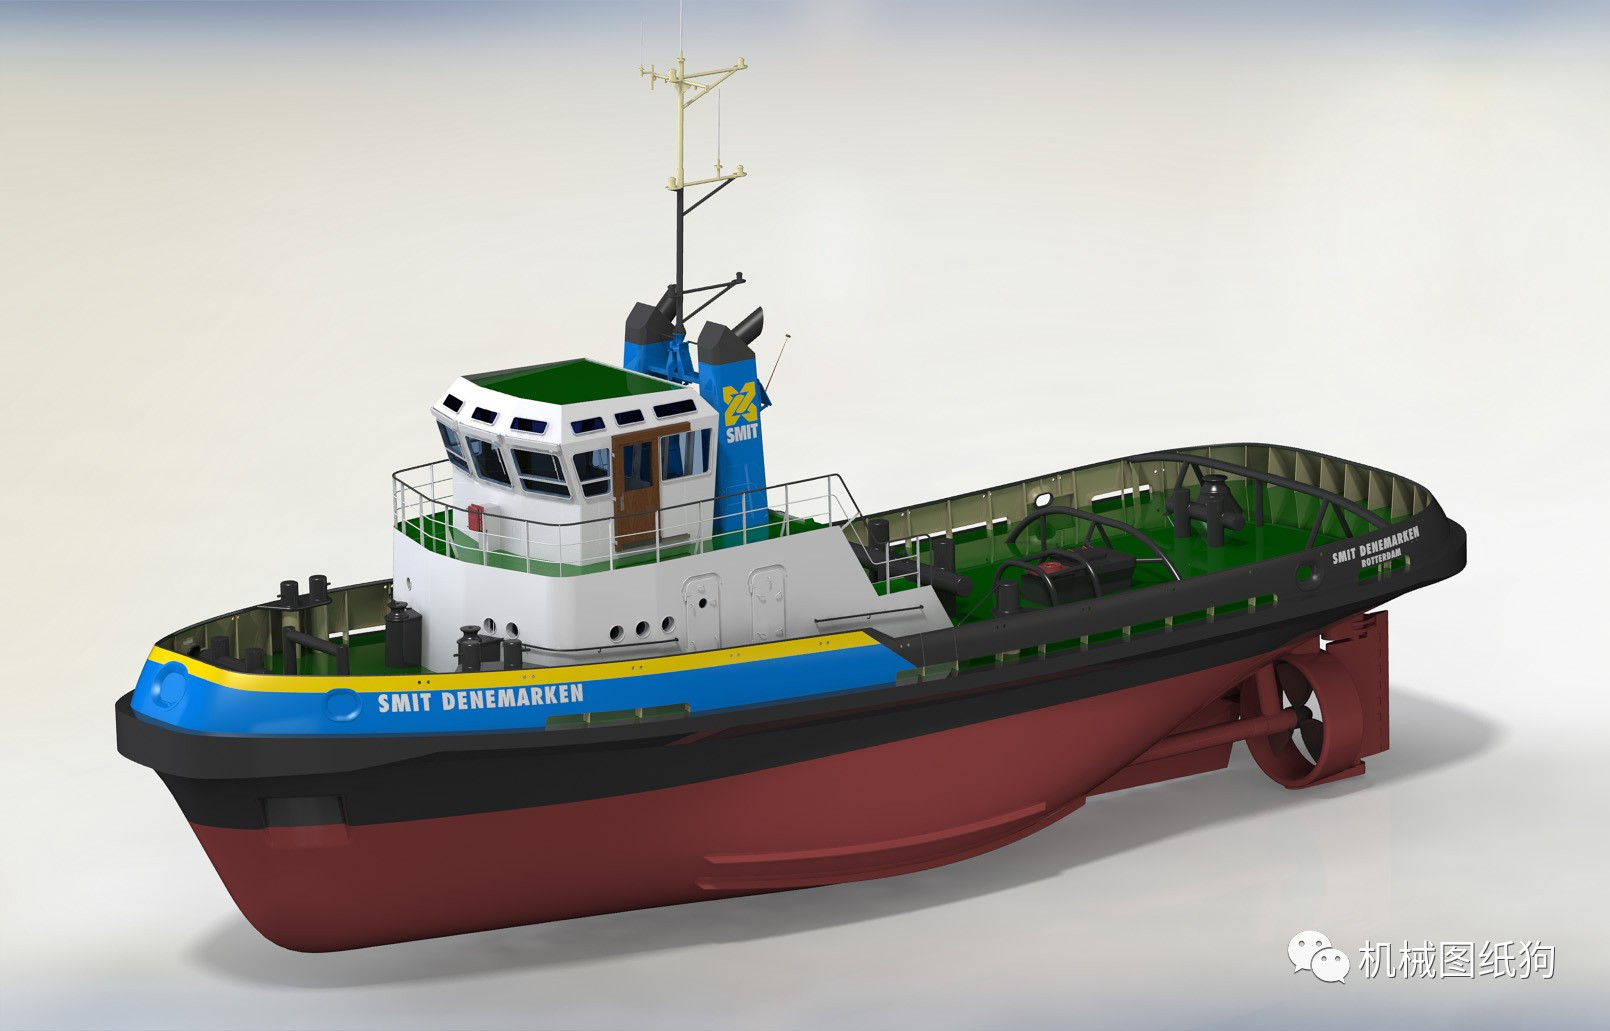otherboat: (92, 86, 1468, 940)
